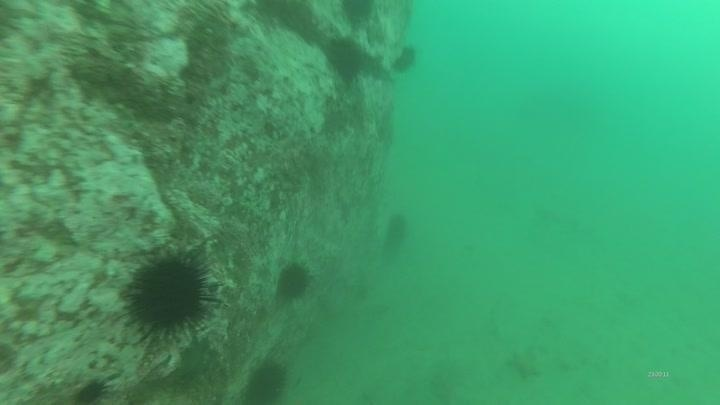echinus: (120, 246, 218, 346), (241, 356, 291, 405), (322, 35, 368, 83), (274, 260, 314, 303), (382, 210, 412, 250), (337, 0, 378, 26), (389, 43, 420, 76)
starfish: (504, 344, 545, 383)
